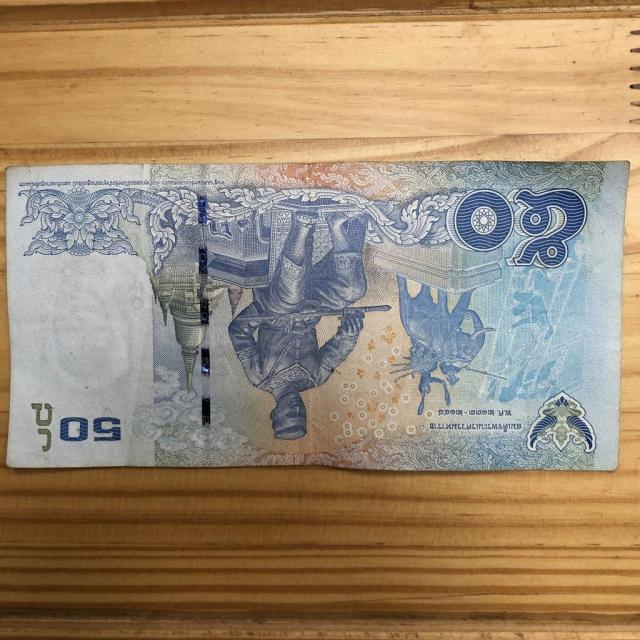THAI50: (6, 159, 630, 470)
